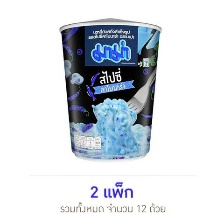paper_cup: (53, 13, 164, 165)
